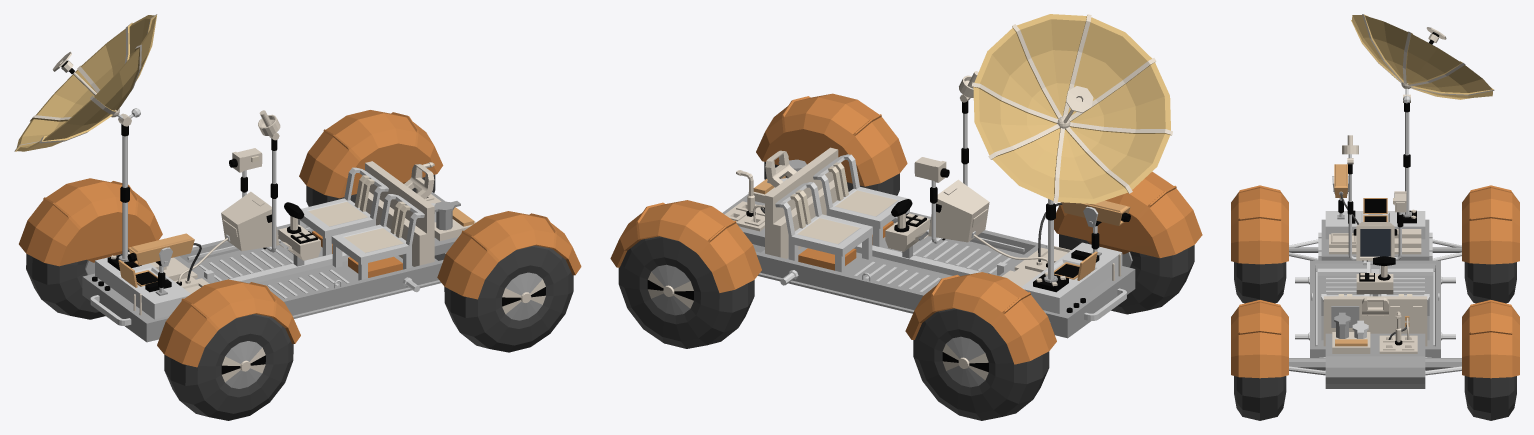
Rendered from buggy.glb.
3 renders of one model, left to right at view 1: azimuth 30°, elevation 25°; view 2: azimuth 150°, elevation 25°; view 3: azimuth 270°, elevation 25°, orthographic. The views are drawn at different scales.
Parts seen in each view (by area): view 1: Wheels.019_Cylinder.225, Sphere.001_Sphere.003, Wheels.020_Cylinder.226, Wheels.012_Cylinder.189, Wheels.016_Cylinder.216, Cube.059_Cube.179, Wheels.018_Cylinder.224, Wheels.014_Cylinder.191, Cube.060_Cube.180, Cube.115_Cube.235, Cube.063_Cube.183, Wheels.015_Cylinder.215 (+15 smaller); view 2: Sphere.001_Sphere.003, Cube.059_Cube.179, Wheels.018_Cylinder.224, Wheels.015_Cylinder.215, Wheels.017_Cylinder.217, Wheels.020_Cylinder.226, Wheels.019_Cylinder.225, Wheels.014_Cylinder.191, Cube.115_Cube.235, Wheels.012_Cylinder.189, Cube.060_Cube.180, Cube.063_Cube.183 (+16 smaller); view 3: Sphere.001_Sphere.003, Cube.059_Cube.179, Wheels.014_Cylinder.191, Wheels.019_Cylinder.225, Wheels.018_Cylinder.224, Wheels.020_Cylinder.226, Cube.064_Cube.184, Cube.063_Cube.183, Wheels.016_Cylinder.216, Wheels.017_Cylinder.217, Wheels.012_Cylinder.189, Wheels.015_Cylinder.215 (+21 smaller).
Part boxes in pixels (x1,y1,x2,y2): Wheels.019_Cylinder.225: [19, 178, 162, 266]; Sphere.001_Sphere.003: [14, 14, 157, 151]; Wheels.020_Cylinder.226: [299, 110, 443, 198]; Wheels.012_Cylinder.189: [164, 314, 293, 420]; Wheels.016_Cylinder.216: [444, 245, 573, 352]; Cube.059_Cube.179: [176, 224, 445, 318]; Wheels.018_Cylinder.224: [437, 211, 581, 299]; Wheels.014_Cylinder.191: [157, 279, 300, 367]; Cube.060_Cube.180: [331, 194, 424, 280]; Cube.115_Cube.235: [298, 167, 388, 255]; Cube.063_Cube.183: [365, 161, 434, 266]; Wheels.015_Cylinder.215: [26, 250, 129, 319]; Sphere.001_Sphere.003: [972, 14, 1172, 203]; Cube.059_Cube.179: [752, 212, 1047, 313]; Wheels.018_Cylinder.224: [756, 93, 907, 186]; Wheels.015_Cylinder.215: [913, 308, 1049, 420]; Wheels.017_Cylinder.217: [618, 236, 754, 348]; Wheels.020_Cylinder.226: [610, 200, 761, 292]; Wheels.019_Cylinder.225: [905, 272, 1056, 364]; Wheels.014_Cylinder.191: [1054, 171, 1202, 258]; Cube.115_Cube.235: [775, 182, 872, 272]; Wheels.012_Cylinder.189: [1059, 234, 1194, 314]; Cube.060_Cube.180: [813, 154, 910, 247]; Cube.063_Cube.183: [765, 147, 838, 258]; Sphere.001_Sphere.003: [1351, 14, 1494, 99]; Cube.059_Cube.179: [1310, 260, 1440, 357]; Wheels.014_Cylinder.191: [1231, 185, 1288, 264]; Wheels.019_Cylinder.225: [1462, 185, 1519, 264]; Wheels.018_Cylinder.224: [1231, 300, 1288, 378]; Wheels.020_Cylinder.226: [1462, 300, 1519, 378]; Cube.064_Cube.184: [1325, 333, 1425, 388]; Cube.063_Cube.183: [1323, 296, 1427, 346]; Wheels.016_Cylinder.216: [1234, 376, 1286, 420]; Wheels.017_Cylinder.217: [1464, 376, 1516, 420]; Wheels.012_Cylinder.189: [1234, 262, 1286, 303]; Wheels.015_Cylinder.215: [1464, 262, 1516, 303].
Bounding box in the file's own units: 8.39 × 5.8 × 5.44.
1 material, 1 textured.
